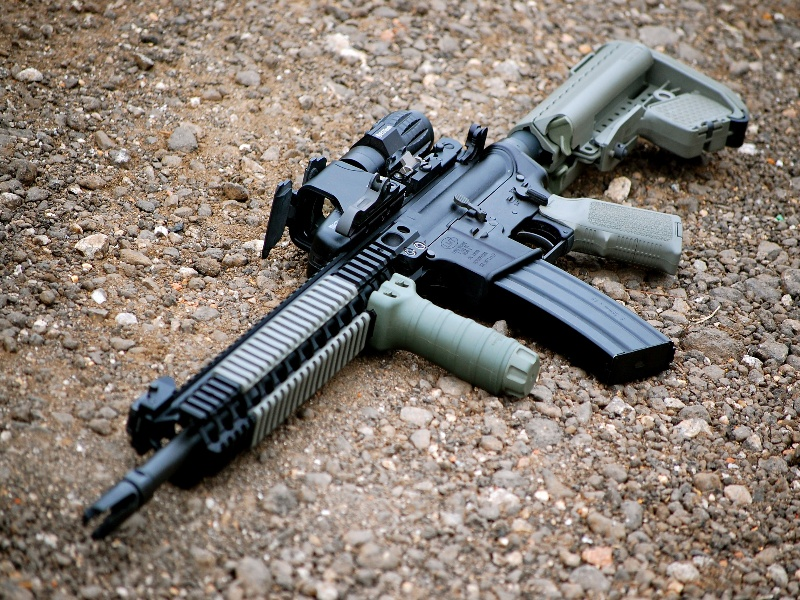weapon: (82, 39, 750, 541)
